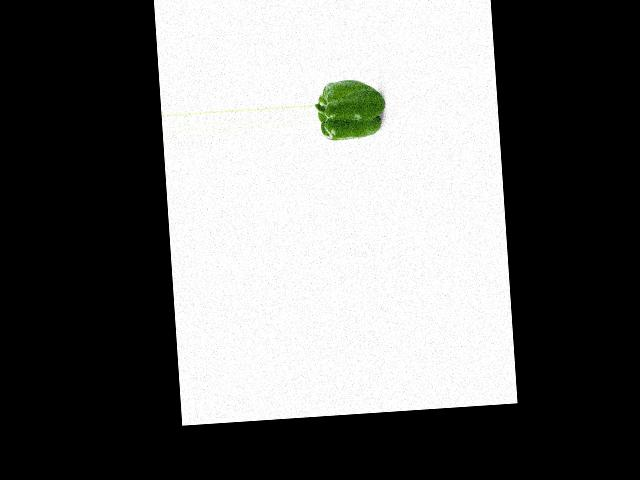bell_pepper: (314, 76, 385, 142)
